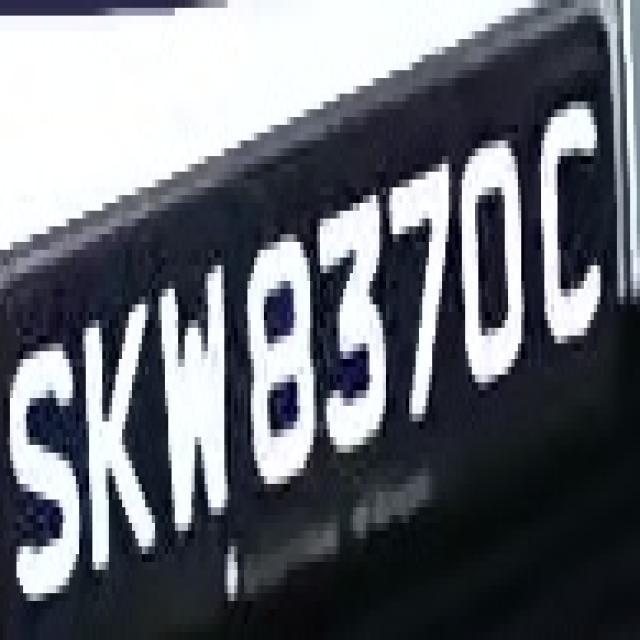0: (448, 132, 534, 414)
3: (320, 164, 396, 460)
7: (379, 156, 458, 437)
8: (244, 234, 323, 515)
C: (528, 70, 620, 398)
K: (82, 288, 162, 578)
S: (13, 328, 89, 632)
W: (152, 234, 231, 546)
